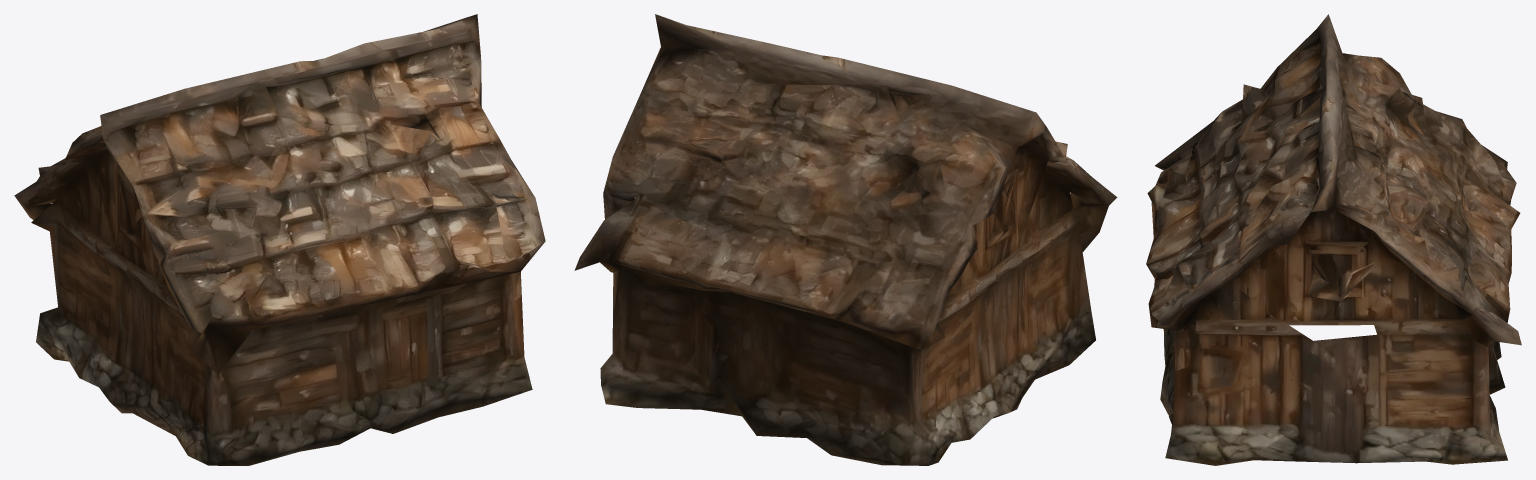
The model's file is fienile1.glb.
The picture shows the model from 3 angles, left to right: view 1: azimuth 30°, elevation 25°; view 2: azimuth 150°, elevation 25°; view 3: azimuth 270°, elevation 25°; orthographic projection. The views are drawn at different scales.
Visible parts, largest first — view 1: tripo_node_3fa36ebf-0fd7-4edf-8073-2d905b08e21c; view 2: tripo_node_3fa36ebf-0fd7-4edf-8073-2d905b08e21c; view 3: tripo_node_3fa36ebf-0fd7-4edf-8073-2d905b08e21c.
Boxes of the visible parts, x1,y1,x2,y2 form: tripo_node_3fa36ebf-0fd7-4edf-8073-2d905b08e21c: (14, 14, 545, 465); tripo_node_3fa36ebf-0fd7-4edf-8073-2d905b08e21c: (574, 14, 1117, 465); tripo_node_3fa36ebf-0fd7-4edf-8073-2d905b08e21c: (1146, 14, 1521, 465).
Size of the model in its own units: 1 by 0.7811 by 0.8922.
Materials: 1 (1 with a texture image).
